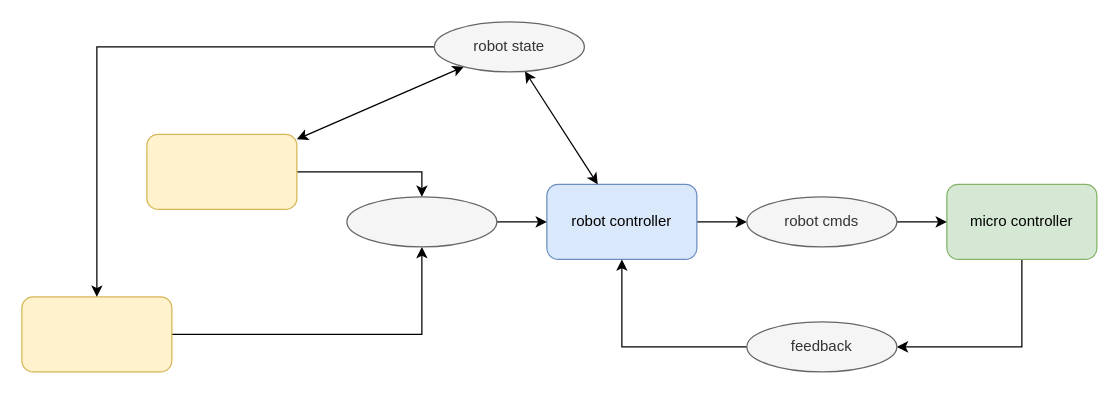
Image size: 1119x394. Some labels were removed from this diagram. Each missing label, with the centre of its shape:
graphical user interace: the point at 221,171
input cmds: the point at 421,221
object detection: the point at 96,334
